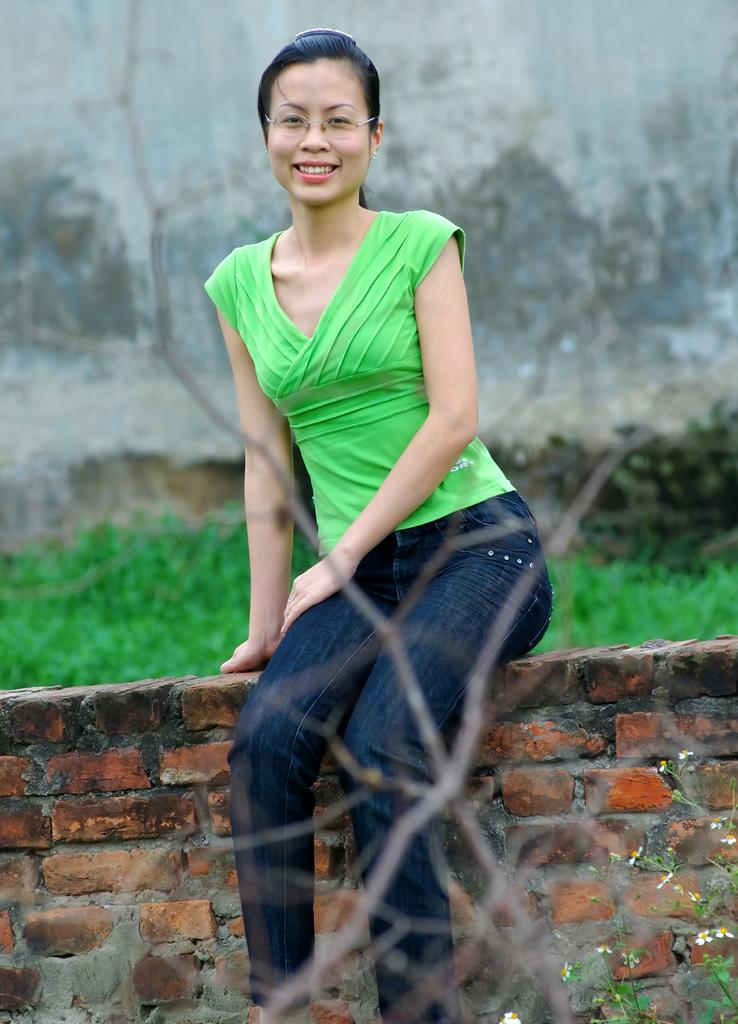Sem Máscara: (261, 60, 373, 211)
